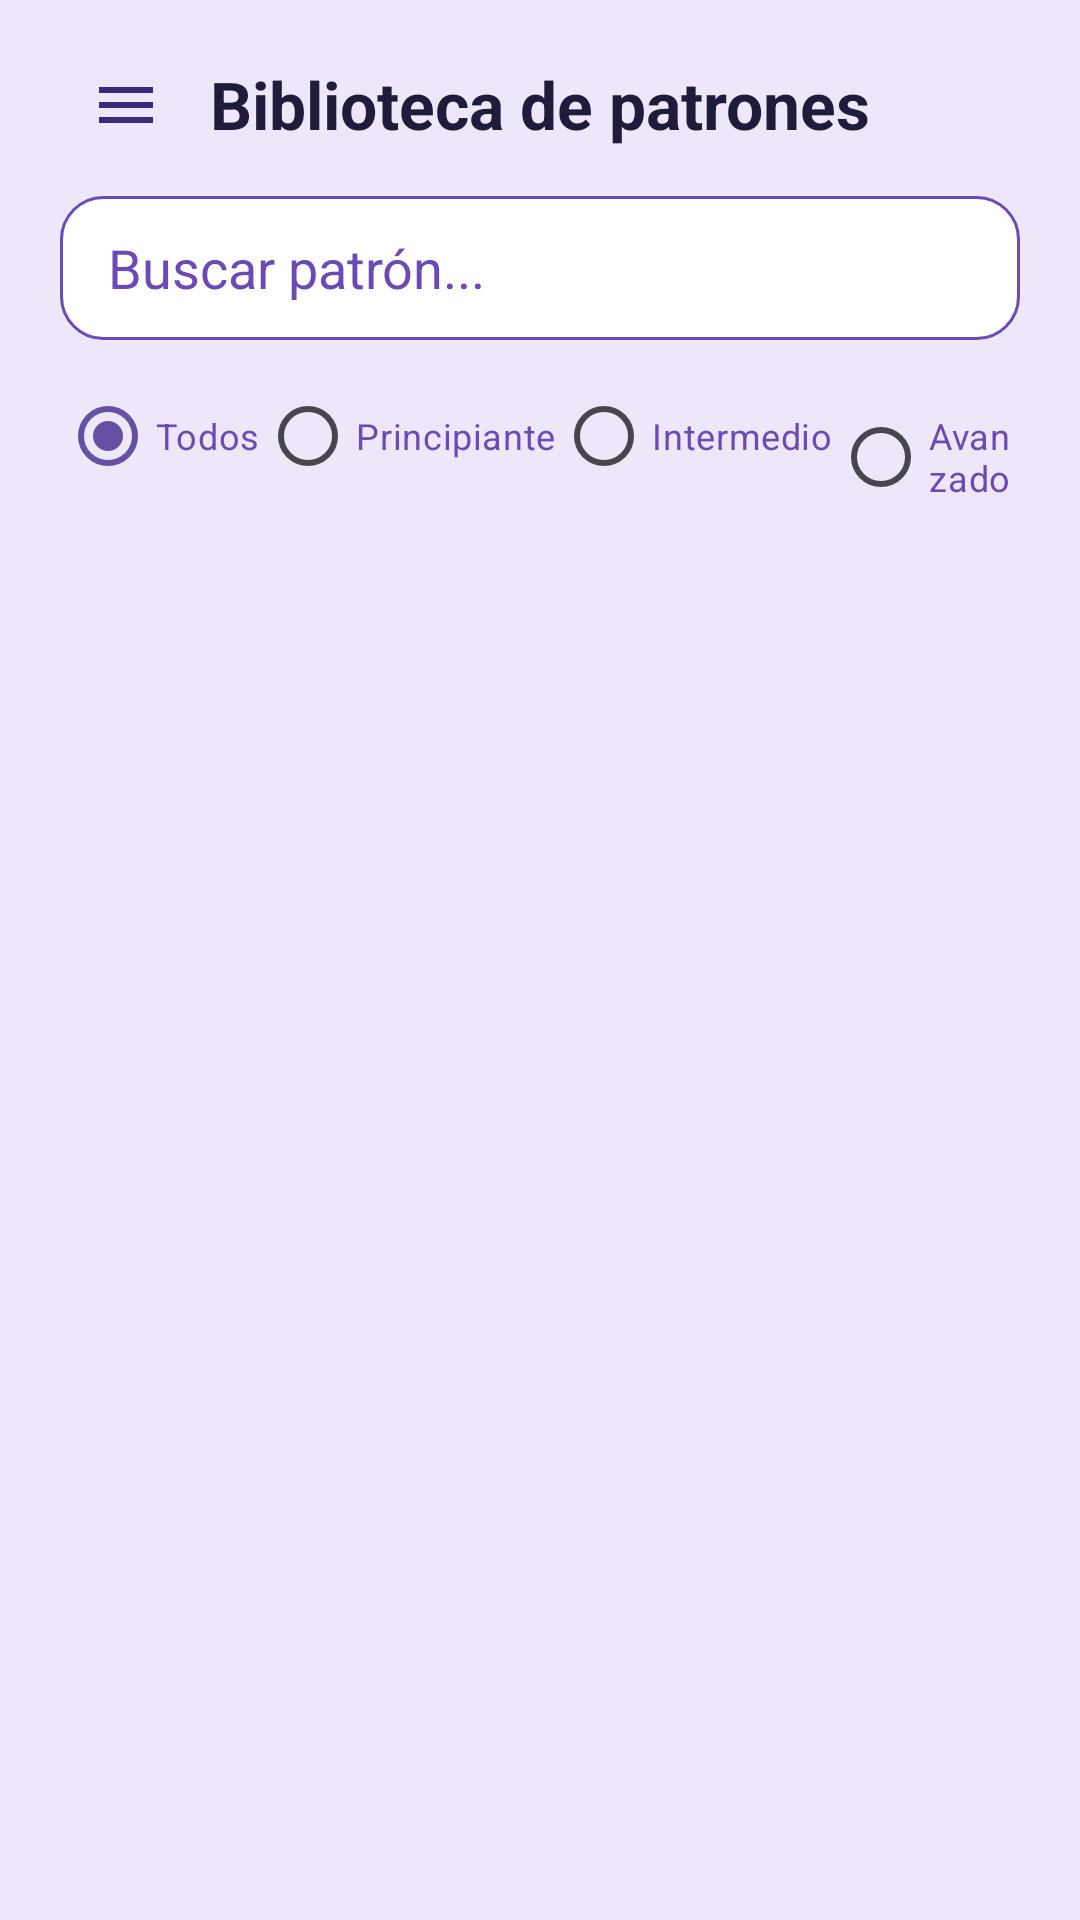

Point at icon controls on the screen. Image size 1080w x 1920h, points as (x=x, y=y).
Abrir menú: (x=126, y=105)
